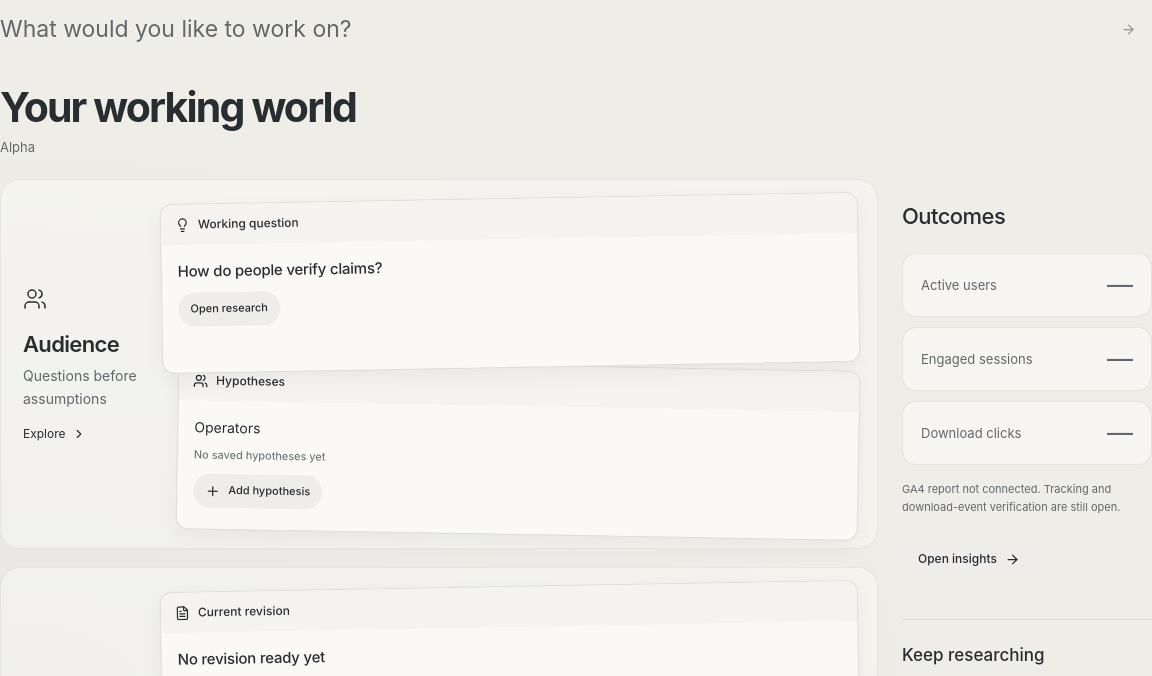
Scenario: contextual studio interactions with the real API client › saves an audience hypothesis without treating it as validated research
The image size is (1152, 676).
Click the button "Audience Questions before assumptions Explore": [84, 364] box [19,287,149,441]
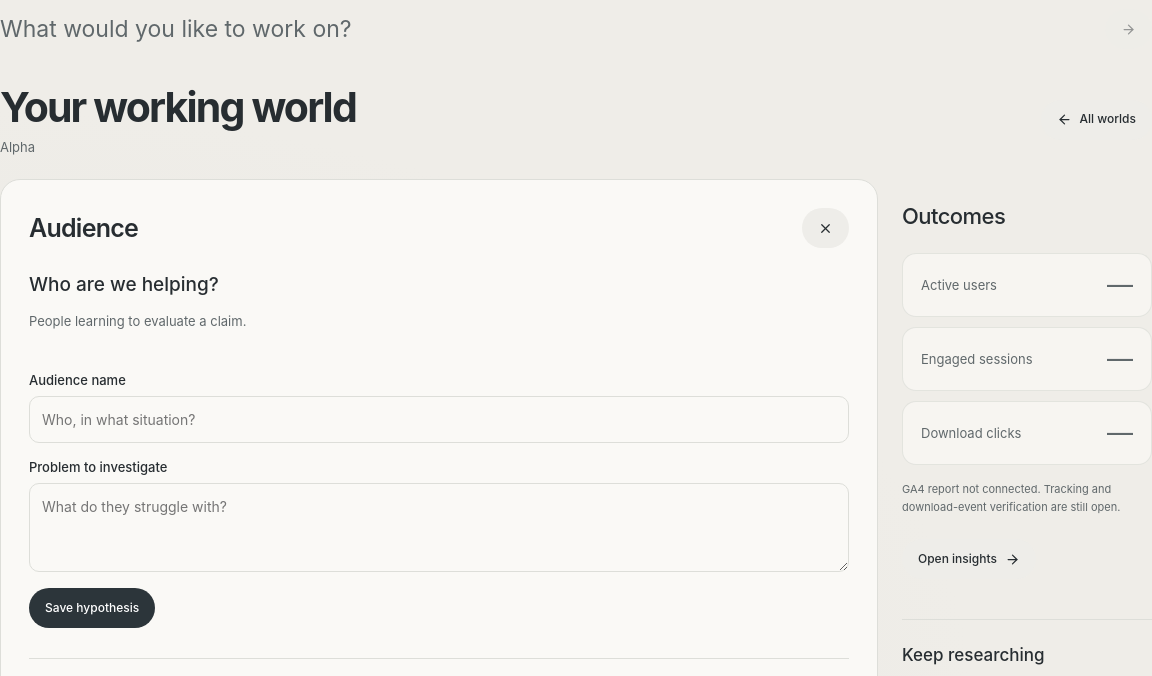
In the field labelled "Audience name": [439, 420] box [29,396,849,443], type "New editors"
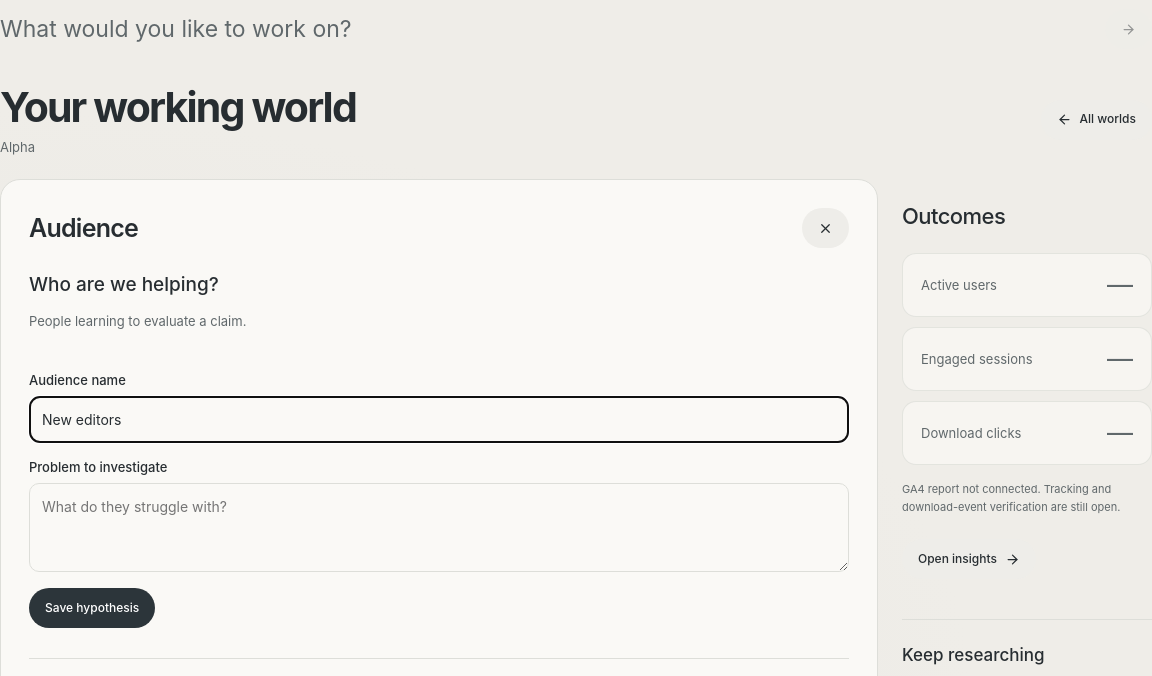
In the text box labelled "Problem to investigate": [439, 528] box [29,483,849,572], type "How to check a summary"
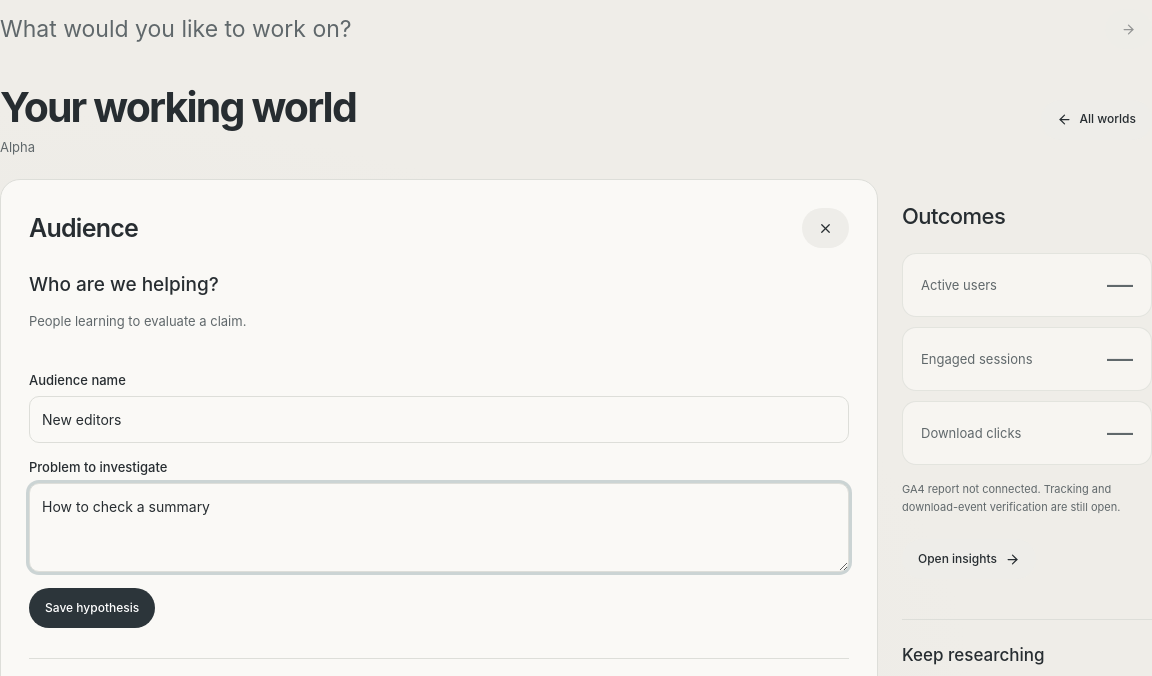
Click the button "Save hypothesis": [92, 608] box [29,588,155,628]
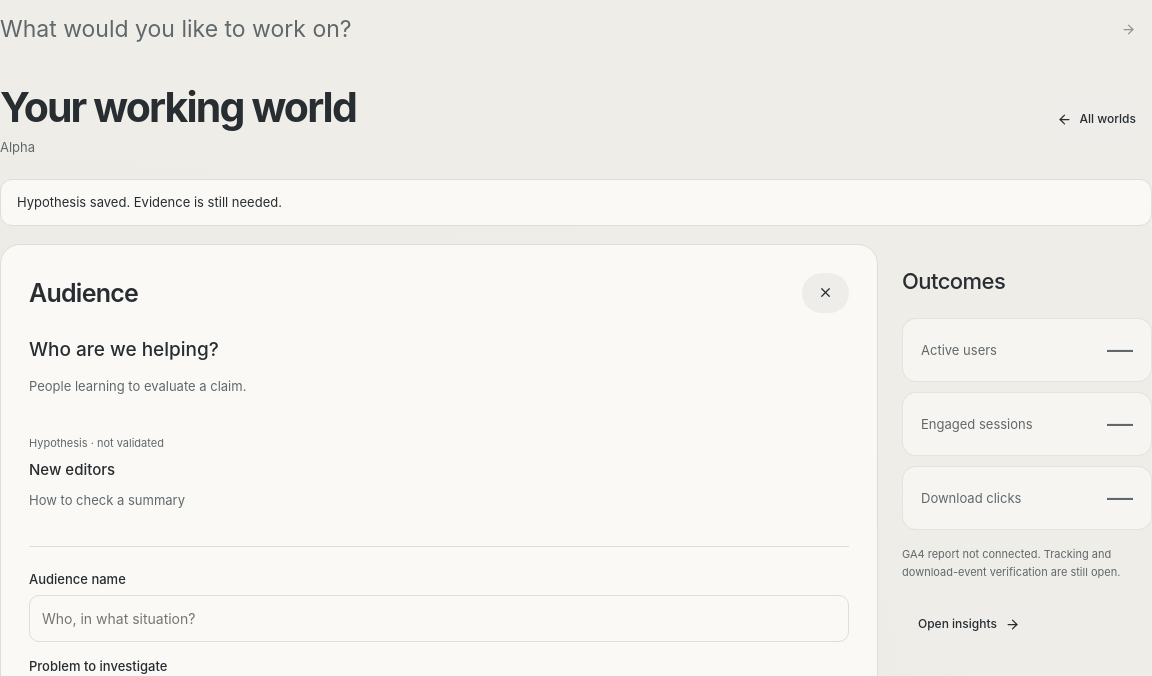
Now the text "Hypothesis saved. Evidence is still needed." is shown, box [0,179,1151,226]
Now the text "Hypothesis · not validated" is shown, box [29,436,164,450]
